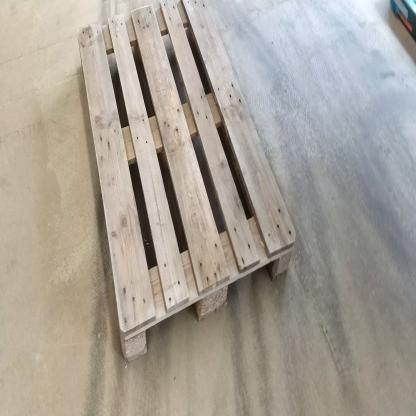BoxFace: (71, 0, 303, 369)
